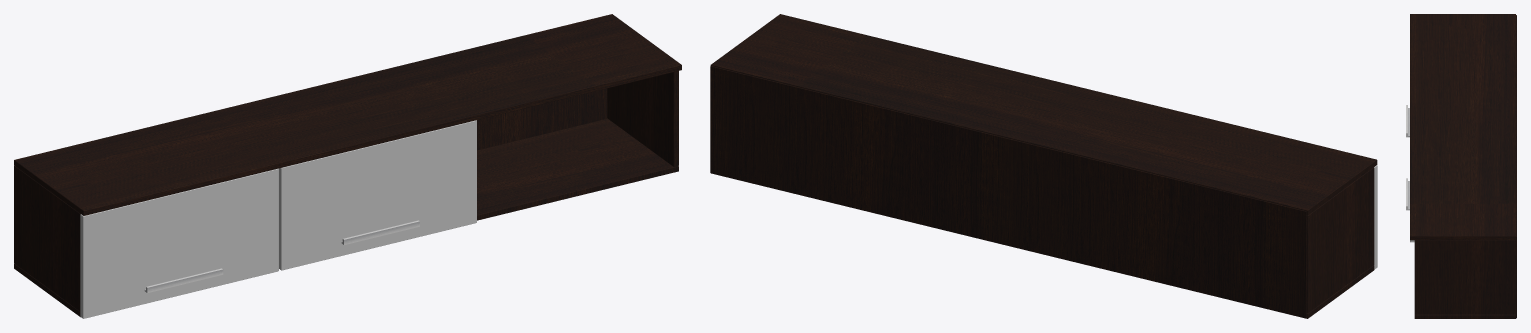
The model's file is Furniture 2.FBX.
3 views of the same model, side by side, from view 1: azimuth 30°, elevation 25°; view 2: azimuth 150°, elevation 25°; view 3: azimuth 270°, elevation 25° (orthographic). The views are drawn at different scales.
Parts seen in each view (by area): view 1: Furniture 2; view 2: Furniture 2; view 3: Furniture 2.
Part boxes in pixels (x1,y1,x2,y2): Furniture 2: [14, 14, 681, 318]; Furniture 2: [710, 14, 1377, 318]; Furniture 2: [1406, 14, 1516, 318].
Bounding box in the file's own units: 1828 × 318 × 386.
